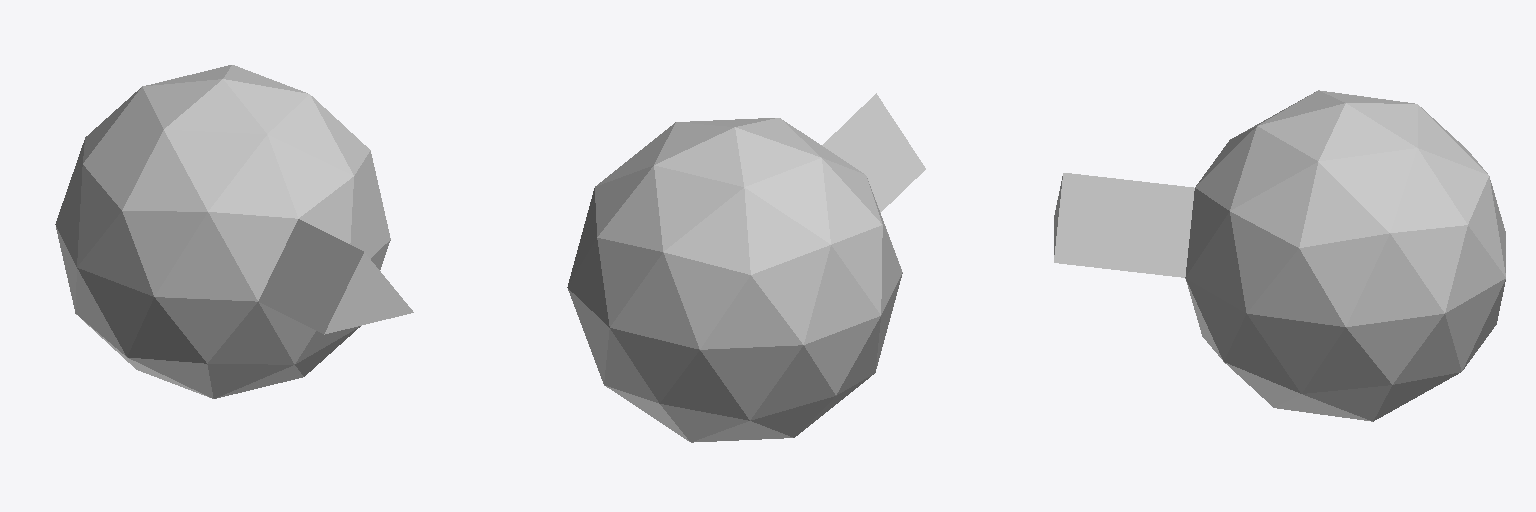
Rendered from oct.obj.
The picture shows the model from 3 angles: view 1: azimuth 30°, elevation 25°; view 2: azimuth 150°, elevation 25°; view 3: azimuth 270°, elevation 25°; orthographic projection.
Visible parts, largest first — view 1: Icosphere; view 2: Icosphere; view 3: Icosphere.
Boxes of the visible parts, x1=… form: Icosphere: x1=55, y1=65, x2=413, y2=398; Icosphere: x1=567, y1=93, x2=925, y2=442; Icosphere: x1=1054, y1=90, x2=1505, y2=421.
Bounding box in the file's own units: 2 × 2 × 2.68.